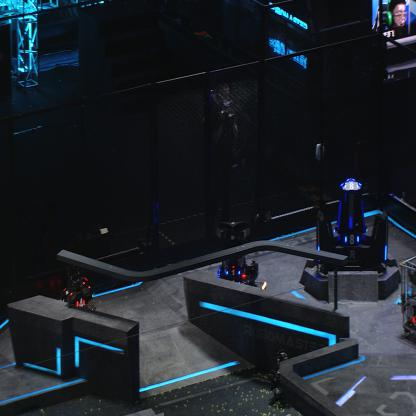car: (216, 220, 259, 290), (60, 264, 96, 316), (399, 255, 415, 340), (237, 262, 267, 302)
